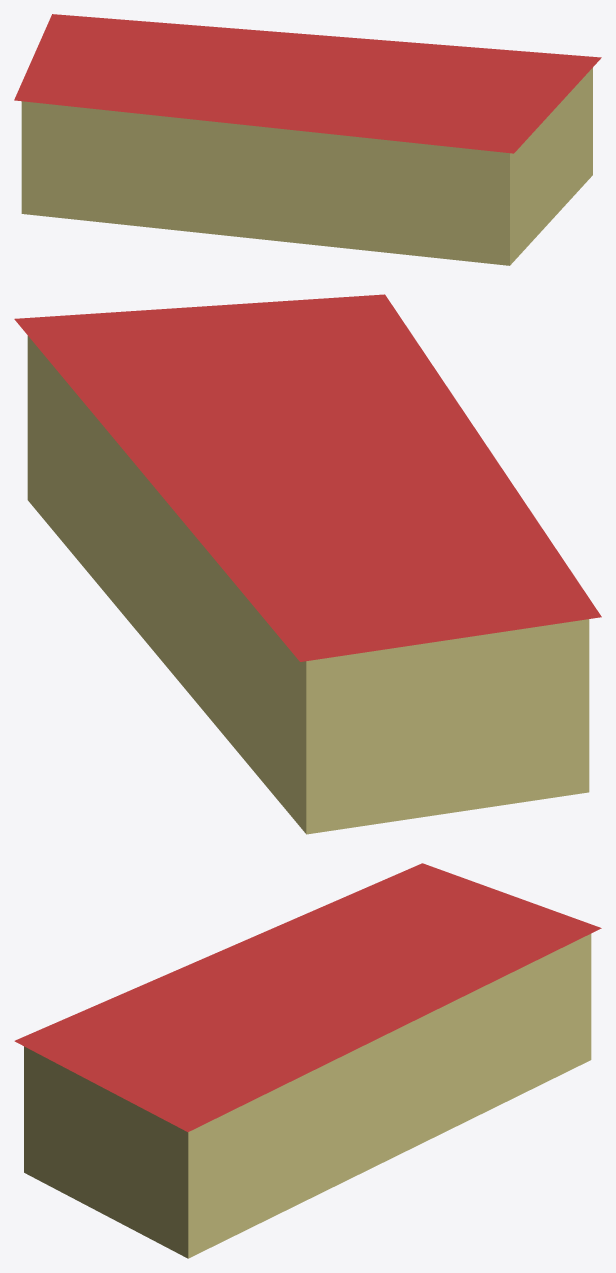
3 views of the same model, one above another, from view 1: azimuth 30°, elevation 25°; view 2: azimuth 150°, elevation 25°; view 3: azimuth 270°, elevation 25° (orthographic). The views are drawn at different scales.
Parts seen in each view (by area): view 1: group_5, group_3, group_4; view 2: group_3, group_5, group_4; view 3: group_5, group_3, group_4.
Boxes of the visible parts, <box> form: group_5: <box>21,68,592,265</box>; group_3: <box>14,14,601,153</box>; group_4: <box>15,14,600,153</box>; group_3: <box>14,294,601,661</box>; group_5: <box>27,335,589,834</box>; group_4: <box>14,294,601,661</box>; group_5: <box>24,934,591,1258</box>; group_3: <box>14,863,601,1131</box>; group_4: <box>15,863,599,1130</box>.
Bounding box in the file's own units: 42.05 × 38.82 × 9.58.
